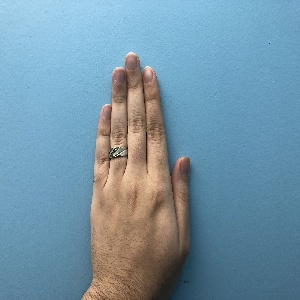hand: (91, 51, 190, 281)
